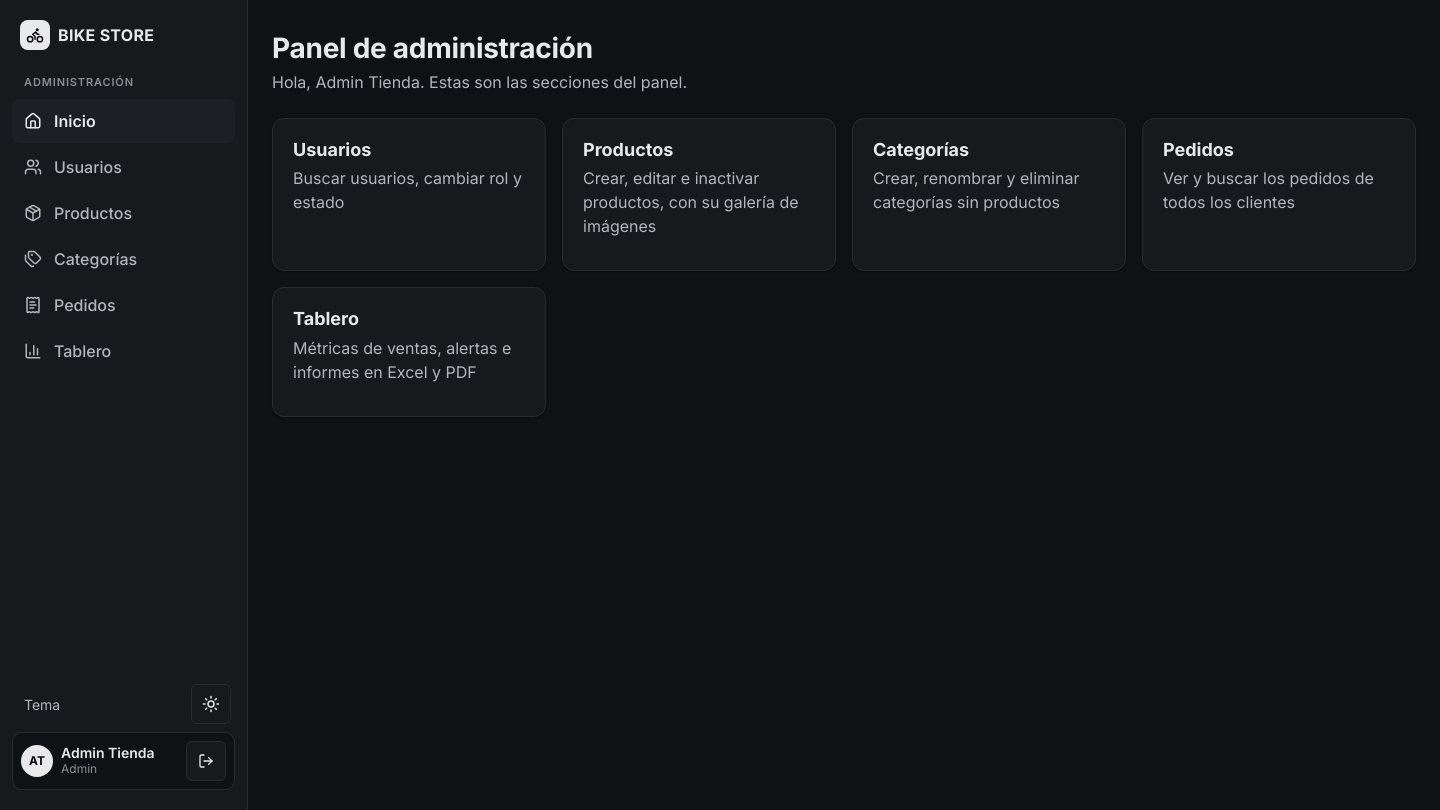
Acceso › la barra lateral y el inicio del panel enlazan a Pedidos y Tablero
Click the link "Pedidos" below "Inicio" at x=70, y=304, box [24, 294, 116, 314]
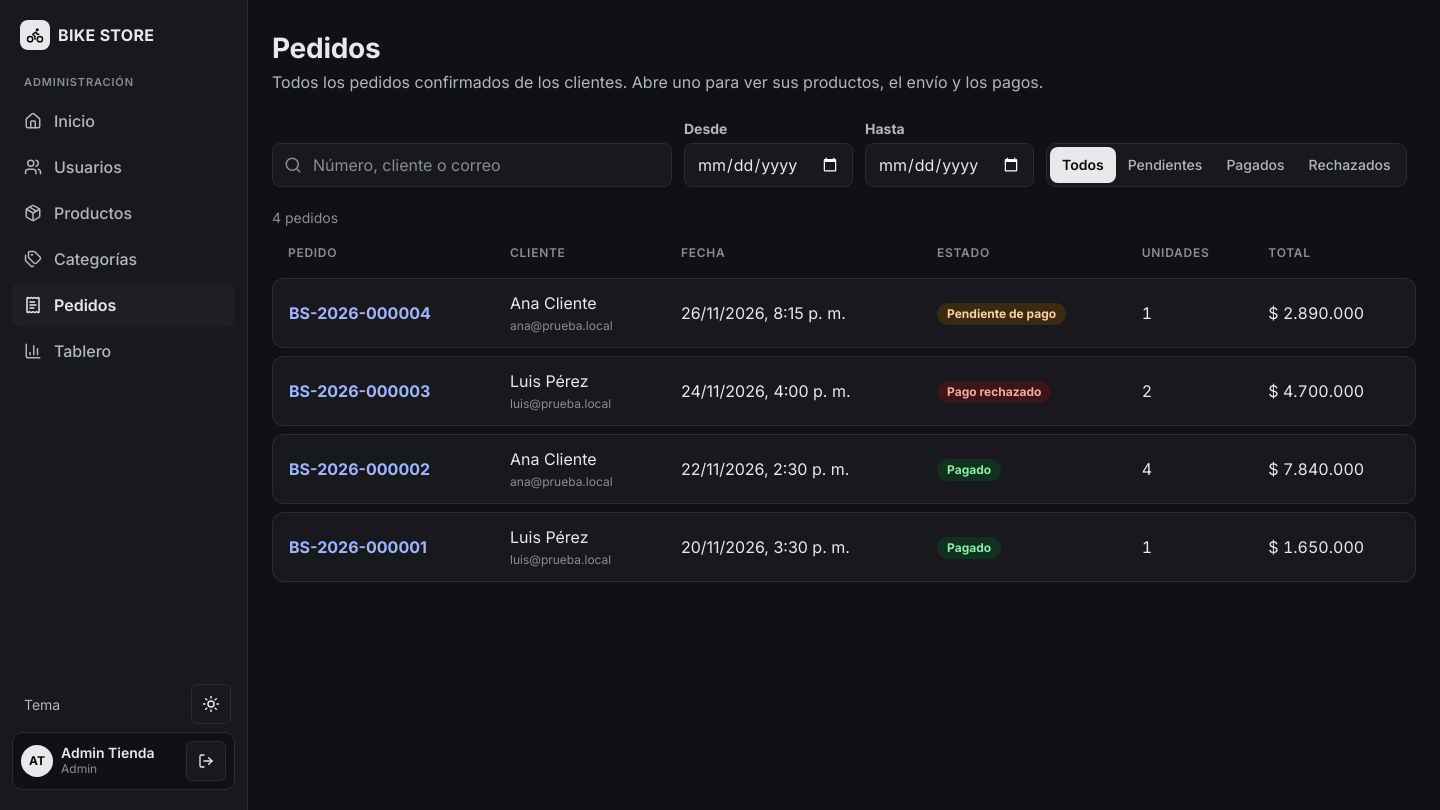
Now the heading "Pedidos" is shown, box [272, 31, 380, 65]
